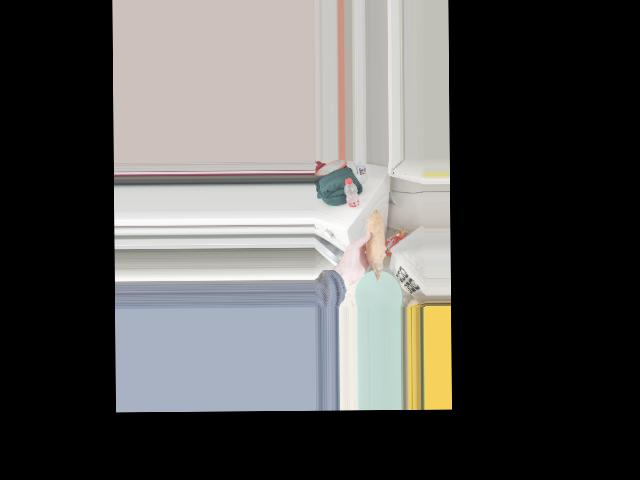sweet_potato: (367, 211, 383, 272)
